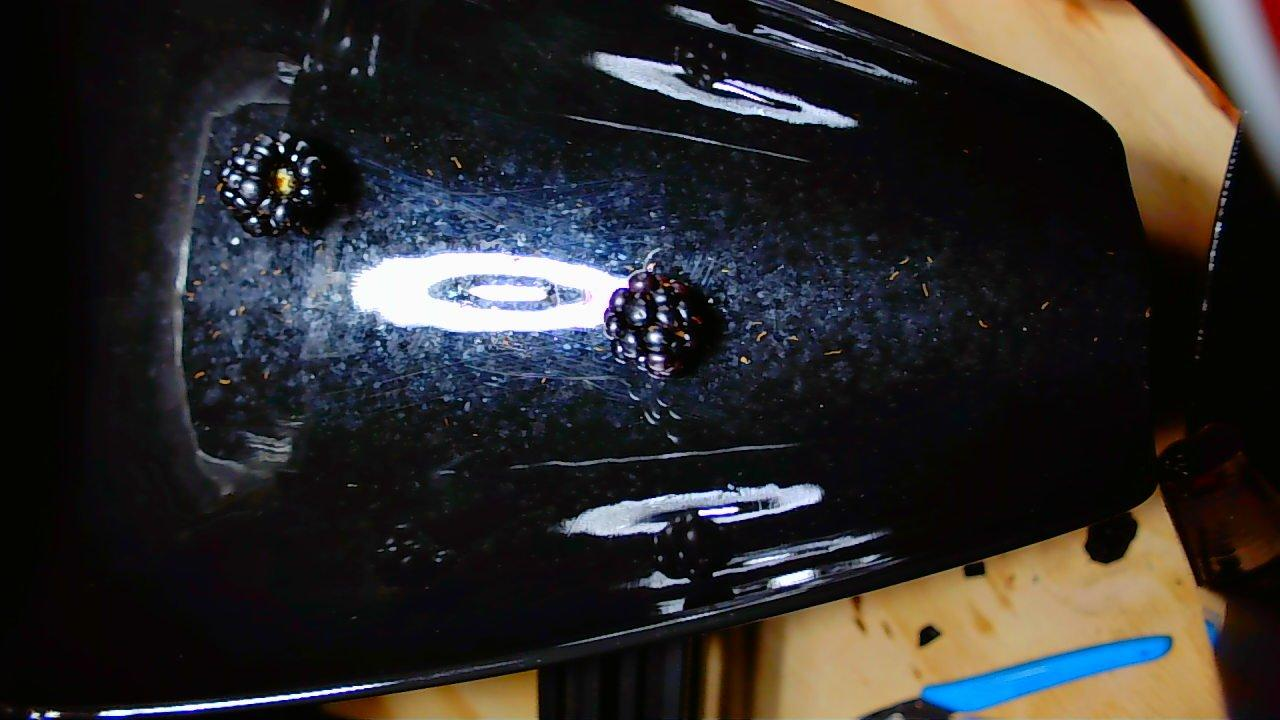berry: (603, 270, 708, 378), (218, 132, 325, 236)
